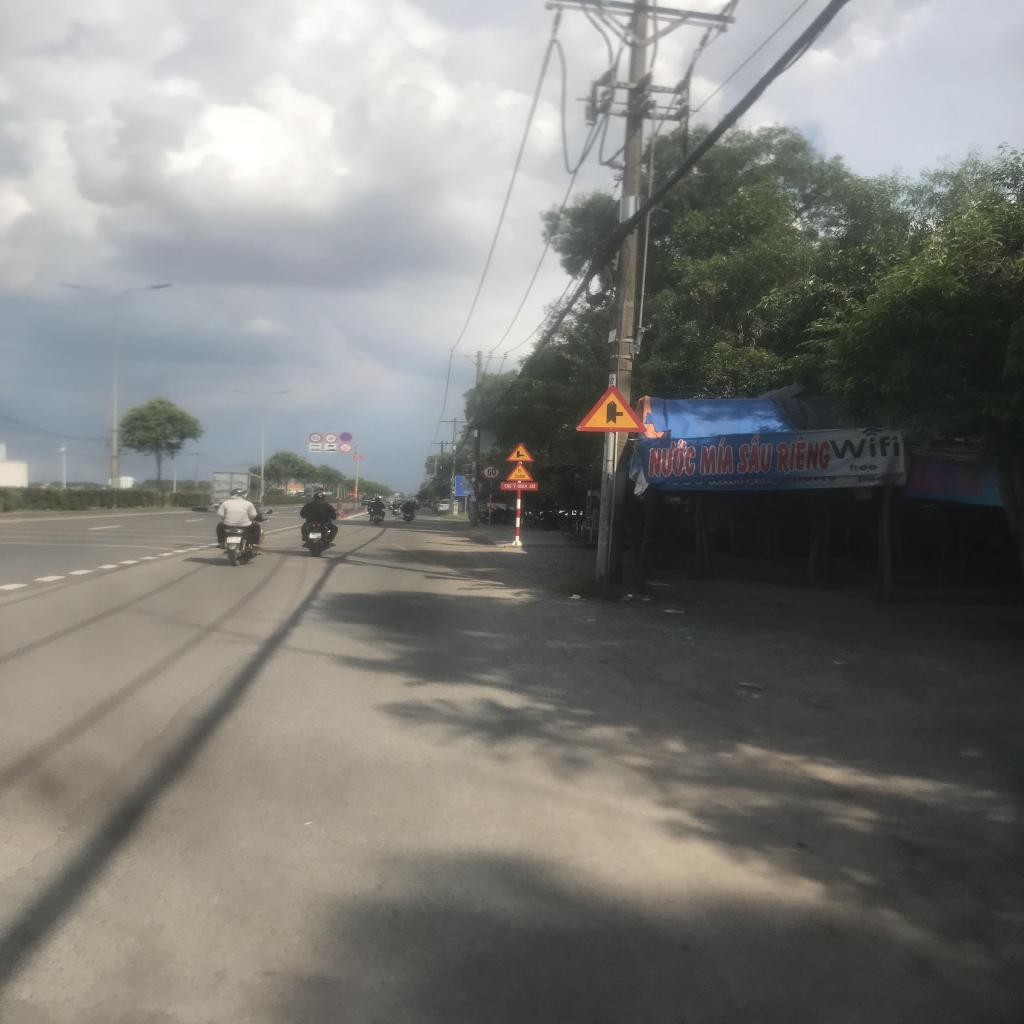cam_dung_xe_va_do_xe: (339, 432, 353, 442)
cam_xe_2_banh_va_xe_3_banh_co_dong_co: (338, 443, 352, 453)
di_cham: (506, 463, 533, 481)
giao_nhau_voi_duong_khong_uu_tien: (572, 383, 648, 432), (504, 442, 536, 462)
khac: (309, 442, 321, 448), (309, 447, 321, 452), (324, 448, 336, 453), (325, 444, 336, 449)
toc_do_toi_da_50: (480, 463, 502, 480)
toc_do_toi_da_60: (324, 433, 338, 443)
toc_do_toi_da_80: (309, 433, 322, 443)
